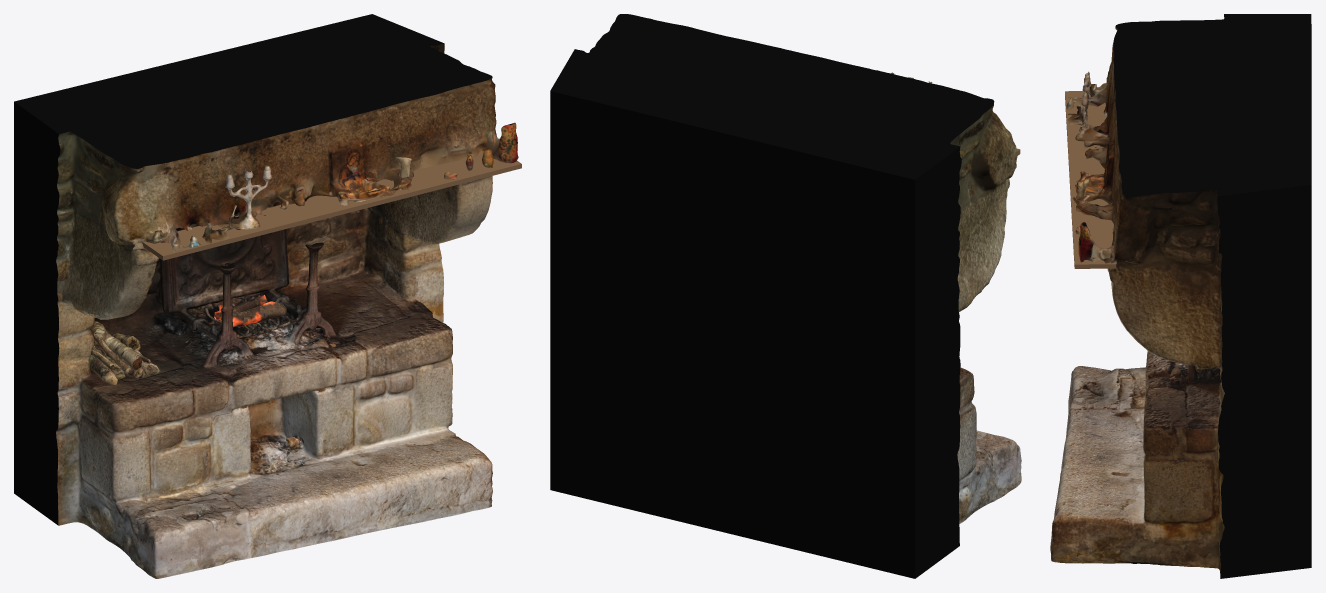
Rendered from fireplace_rustic.glb.
3 renders of one model, left to right at view 1: azimuth 30°, elevation 25°; view 2: azimuth 150°, elevation 25°; view 3: azimuth 270°, elevation 25°, orthographic. The views are drawn at different scales.
Parts seen in each view (by area): view 1: fireplace, back_cover, plank, logs_stack, burning_logs; view 2: back_cover, fireplace; view 3: back_cover, fireplace, plank.
Part boxes in pixels (<box>): fireplace: <box>56,43,518,578</box>; back_cover: <box>14,14,492,525</box>; plank: <box>142,152,521,260</box>; logs_stack: <box>90,321,159,385</box>; burning_logs: <box>214,295,286,326</box>; back_cover: <box>550,14,993,578</box>; fireplace: <box>862,67,1021,523</box>; back_cover: <box>1113,14,1311,578</box>; fireplace: <box>1050,26,1224,572</box>; plank: <box>1065,91,1116,268</box>.
Bounding box in the file's own units: 2.17 × 2.09 × 1.29.
6 materials, 4 textured.
